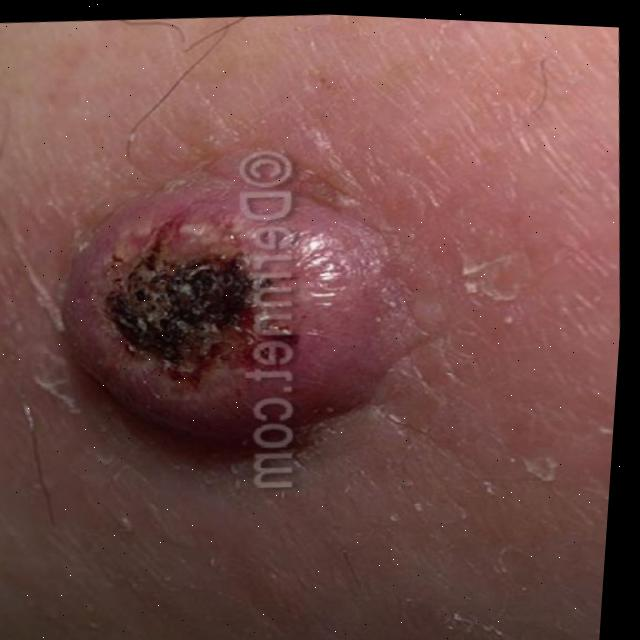Eczema: (107, 211, 339, 383)
